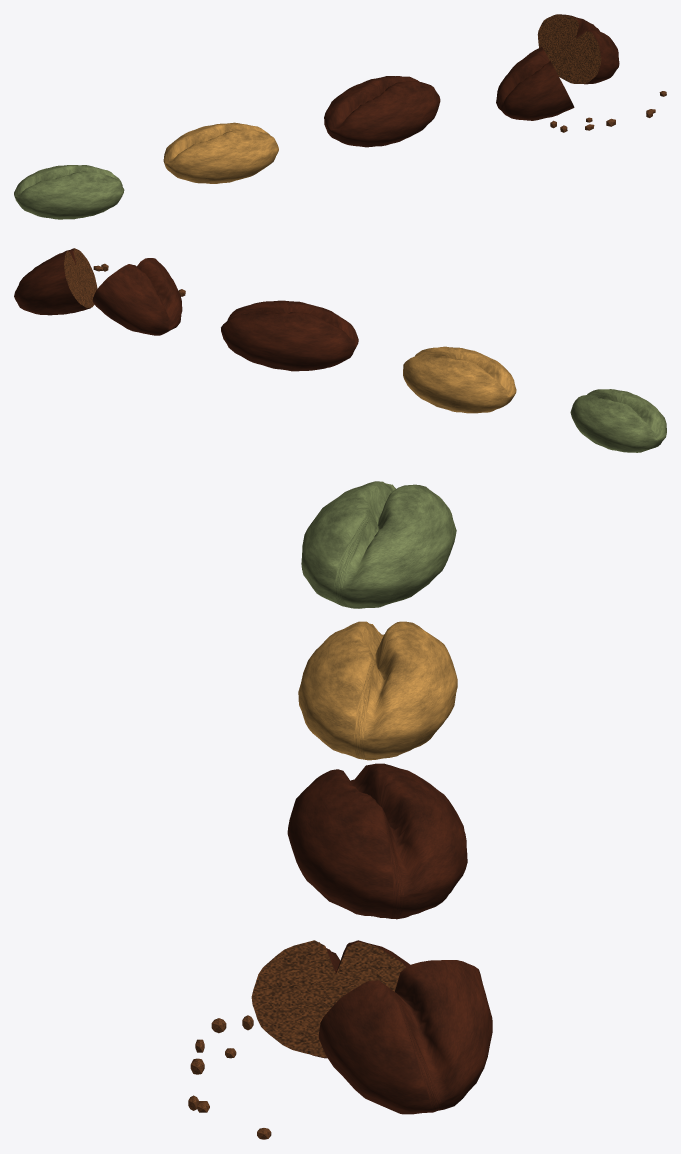
Rendered from roast.glb.
The picture shows the model from 3 angles, top to bottom: view 1: azimuth 30°, elevation 25°; view 2: azimuth 150°, elevation 25°; view 3: azimuth 270°, elevation 25°; orthographic projection. The views are drawn at different scales.
Parts seen in each view (by area): view 1: RoastedBean, YellowBean, GreenBean, FracturedBean_Right, FracturedBean_Left; view 2: RoastedBean, YellowBean, FracturedBean_Left, GreenBean, FracturedBean_Right; view 3: RoastedBean, FracturedBean_Right, YellowBean, GreenBean, FracturedBean_Left.
Part boxes in pixels (left/top/right/bottom): RoastedBean: left=324, top=76, right=440, bottom=147; YellowBean: left=163, top=122, right=278, bottom=183; GreenBean: left=14, top=165, right=124, bottom=219; FracturedBean_Right: left=537, top=14, right=619, bottom=84; FracturedBean_Left: left=496, top=47, right=574, bottom=120; RoastedBean: left=221, top=300, right=358, bottom=371; YellowBean: left=403, top=346, right=516, bottom=413; FracturedBean_Left: left=92, top=258, right=182, bottom=335; GreenBean: left=570, top=389, right=666, bottom=452; FracturedBean_Right: left=14, top=248, right=97, bottom=315; RoastedBean: left=287, top=763, right=467, bottom=919; FracturedBean_Right: left=318, top=960, right=492, bottom=1114; YellowBean: left=298, top=621, right=457, bottom=760; GreenBean: left=301, top=481, right=456, bottom=608; FracturedBean_Left: left=251, top=940, right=409, bottom=1058.
Size of the model in its own units: 0.067 by 0.00738 by 0.0143.
Materials: 4 (4 with a texture image).
